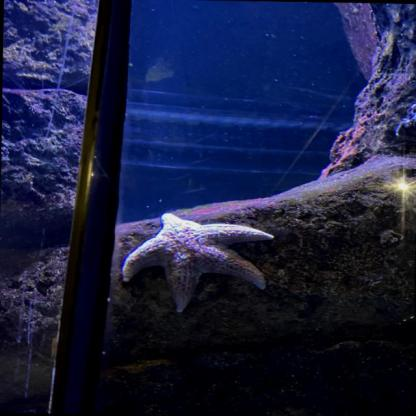starfish: (122, 212, 274, 314)
